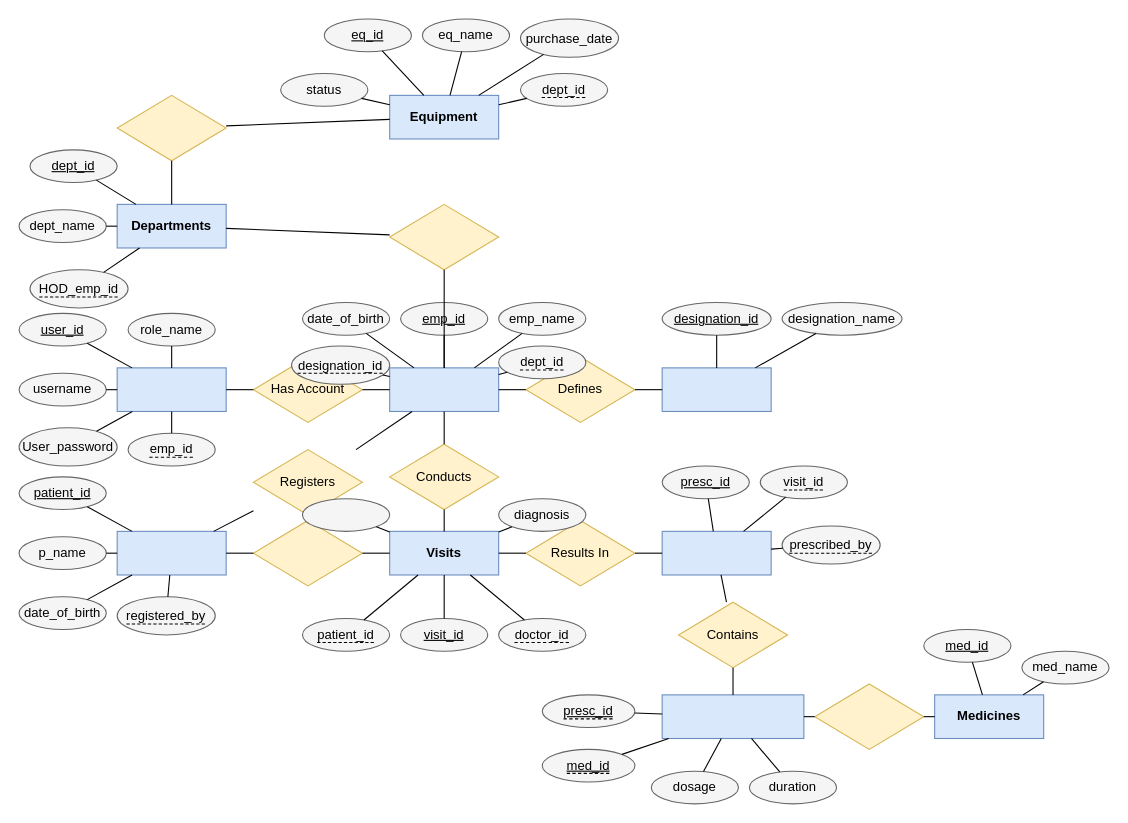
This 1128x823 diagram has some shape labels left out. The centre of each missing label's shape, as x and y in pixels:
Allocates: point (171, 127)
Attends: point (307, 552)
Designations: point (716, 389)
Employees: point (444, 389)
Has Staff: point (444, 236)
Patients: point (171, 552)
Prescribed In: point (869, 716)
Prescription_Details: point (732, 716)
Prescriptions: point (716, 552)
Users: point (171, 389)
visit_date: point (345, 514)
